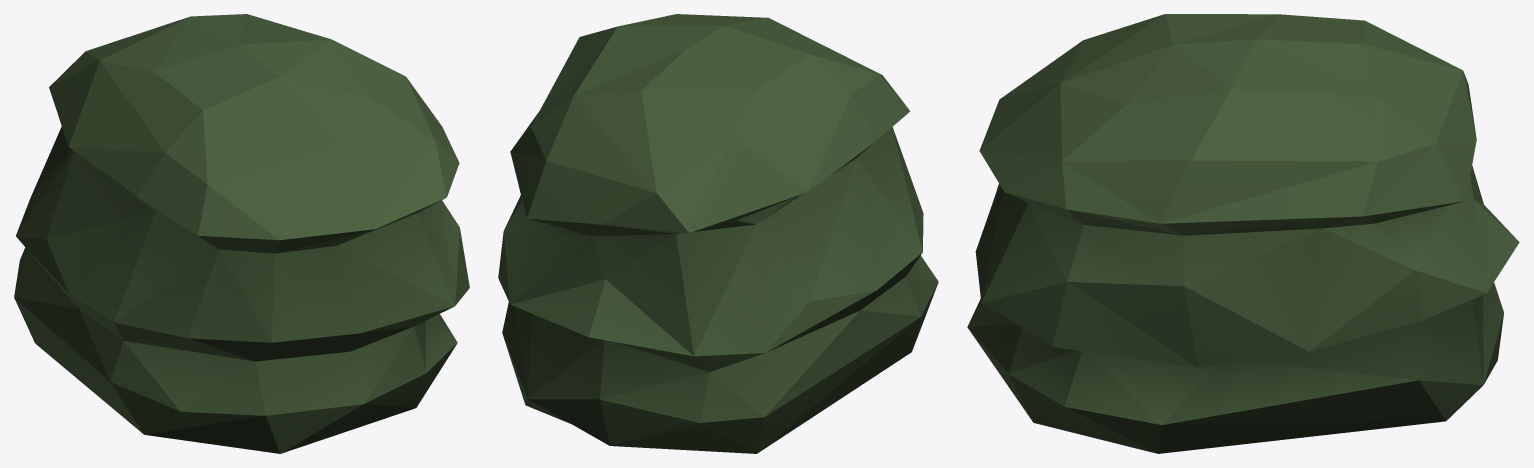
The model's file is bush-1.glb.
3 views of the same model, side by side, from view 1: azimuth 30°, elevation 25°; view 2: azimuth 150°, elevation 25°; view 3: azimuth 270°, elevation 25° (orthographic). The views are drawn at different scales.
Visible parts, largest first — view 1: bush-1; view 2: bush-1; view 3: bush-1.
Boxes of the visible parts, x1,y1,x2,y2 form: bush-1: [14, 14, 469, 453]; bush-1: [498, 14, 938, 453]; bush-1: [967, 14, 1519, 453].
Bounding box in the file's own units: 1.19 × 1.1 × 1.51.
